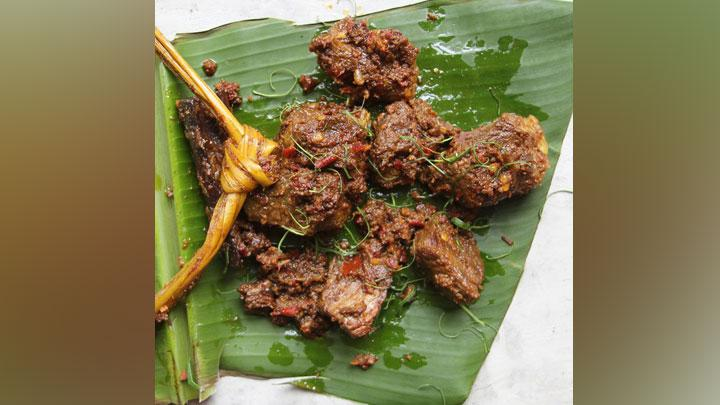rendang: (174, 14, 558, 350)
